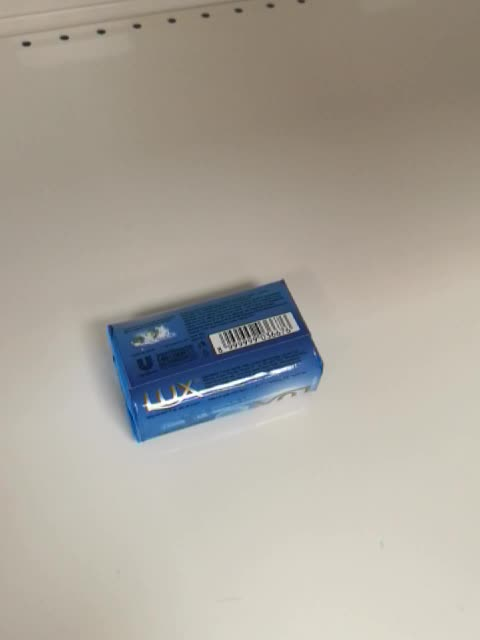soap: (106, 276, 325, 444)
